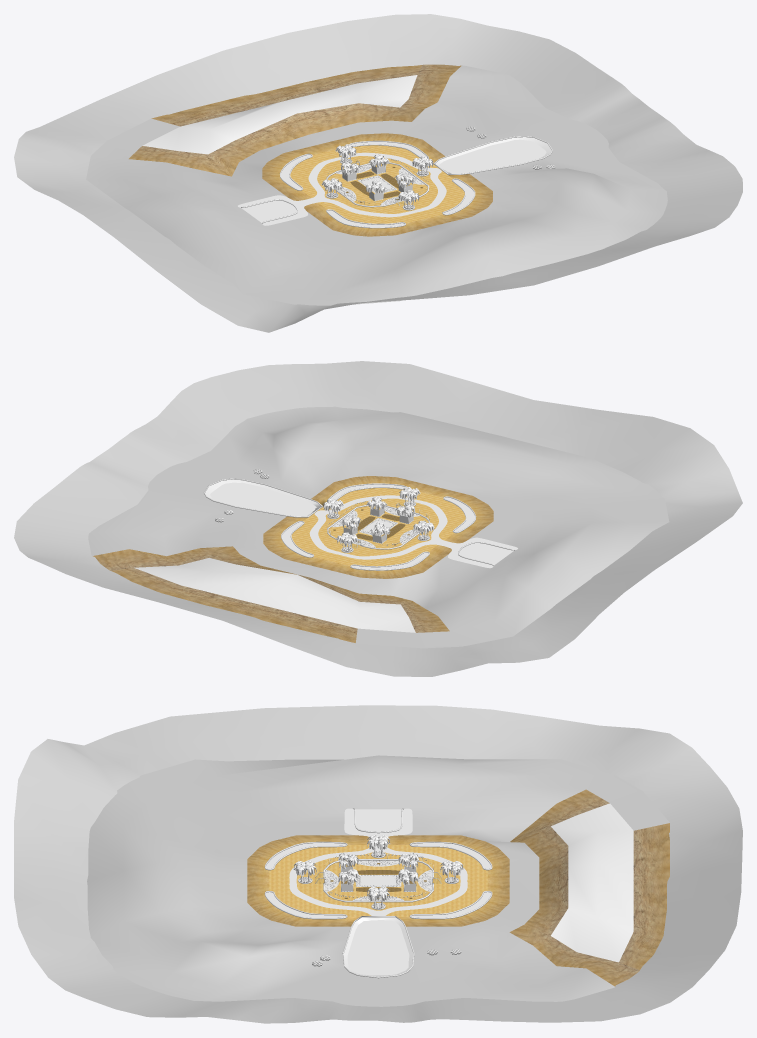
File: oasis_track.glb
3 views of the same model, one above another, from view 1: azimuth 30°, elevation 25°; view 2: azimuth 150°, elevation 25°; view 3: azimuth 270°, elevation 25° (orthographic). The views are drawn at different scales.
Parts seen in each view (by area): view 1: sand2.jpg__, sandtorock.jpg__, stk_generic_rock_b.png__, field_sand.jpg__, sandtransition.jpg__, stk_generic_grassB.png__, oasis-water.png__, sand.png__, bumpy_surface.png__, stktex_palmLeaf_a.png__, city_grass.png__; view 2: sand2.jpg__, stk_generic_rock_b.png__, sandtorock.jpg__, field_sand.jpg__, sandtransition.jpg__, stk_generic_grassB.png__, oasis-water.png__, sand.png__, bumpy_surface.png__, stktex_palmLeaf_a.png__, city_grass.png__; view 3: sand2.jpg__, sandtorock.jpg__, stk_generic_rock_b.png__, field_sand.jpg__, sandtransition.jpg__, stk_generic_grassB.png__, oasis-water.png__, bumpy_surface.png__, sand.png__, stktex_palmLeaf_a.png__, city_grass.png__, stk_generic_grassA.png__.
Boxes of the visible parts, box(x1,y1,x2,y2) form: sand2.jpg__: box(14, 14, 742, 332); sandtorock.jpg__: box(129, 64, 461, 176); stk_generic_rock_b.png__: box(142, 75, 417, 154); field_sand.jpg__: box(290, 145, 464, 223); sandtransition.jpg__: box(262, 133, 492, 236); stk_generic_grassB.png__: box(241, 137, 551, 227); oasis-water.png__: box(362, 139, 546, 191); sand.png__: box(238, 152, 446, 225); bumpy_surface.png__: box(241, 136, 552, 228); stktex_palmLeaf_a.png__: box(321, 144, 433, 203); city_grass.png__: box(327, 126, 555, 209); sand2.jpg__: box(14, 361, 742, 676); stk_generic_rock_b.png__: box(134, 558, 415, 632); sandtorock.jpg__: box(93, 546, 449, 642); field_sand.jpg__: box(291, 488, 465, 566); sandtransition.jpg__: box(263, 476, 493, 578); stk_generic_grassB.png__: box(205, 479, 513, 569); oasis-water.png__: box(210, 482, 393, 534); sand.png__: box(309, 495, 517, 568); bumpy_surface.png__: box(203, 478, 514, 570); stktex_palmLeaf_a.png__: box(323, 487, 434, 546); city_grass.png__: box(215, 469, 428, 551); sand2.jpg__: box(14, 705, 742, 1023); sandtorock.jpg__: box(509, 789, 669, 986); stk_generic_rock_b.png__: box(551, 803, 633, 962); field_sand.jpg__: box(269, 845, 487, 916); sandtransition.jpg__: box(247, 835, 509, 926); stk_generic_grassB.png__: box(266, 809, 491, 976); oasis-water.png__: box(347, 876, 409, 974); bumpy_surface.png__: box(264, 808, 492, 978); sand.png__: box(289, 808, 467, 915); stktex_palmLeaf_a.png__: box(293, 834, 463, 901); city_grass.png__: box(300, 851, 461, 966); stk_generic_grassA.png__: box(325, 860, 432, 900).
Size of the model in its own units: 1131 by 82.44 by 1125.
26 materials, 6 textured.
